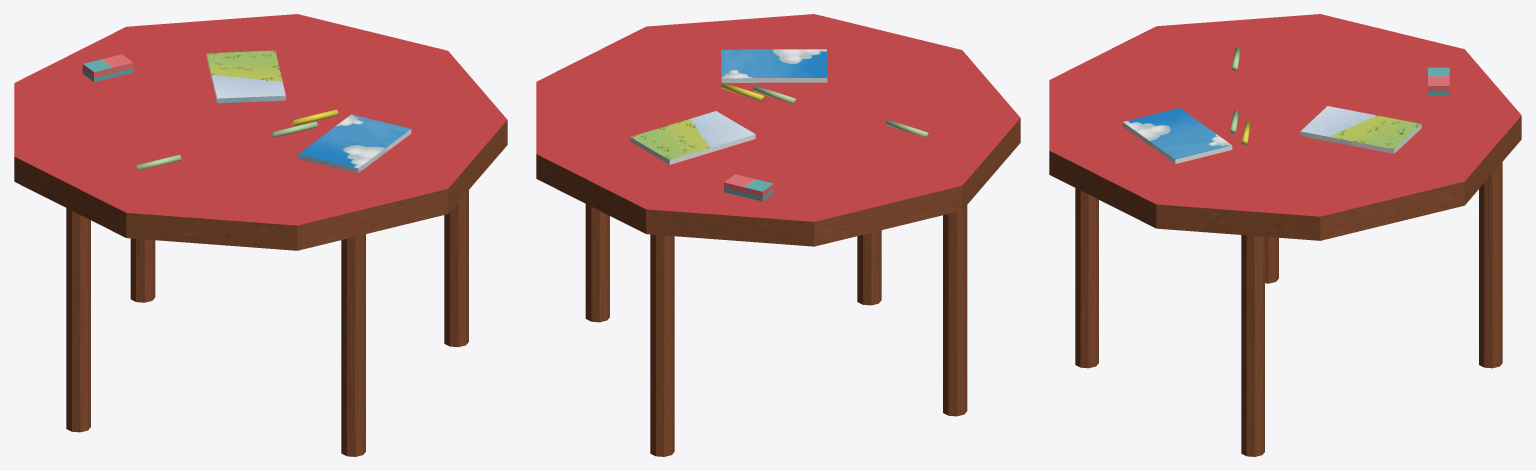
Rendered from Mesa.fbx.
3 renders of one model, left to right at view 1: azimuth 30°, elevation 25°; view 2: azimuth 150°, elevation 25°; view 3: azimuth 270°, elevation 25°, orthographic. The views are drawn at different scales.
Visible parts, largest first — view 1: Mesa, Borracha; view 2: Mesa, Borracha; view 3: Mesa, Borracha.
Boxes of the visible parts, <box> form: Mesa: <box>14,14,507,456</box>; Borracha: <box>82,54,133,81</box>; Mesa: <box>536,14,1020,456</box>; Borracha: <box>724,174,773,201</box>; Mesa: <box>1049,14,1521,456</box>; Borracha: <box>1428,67,1449,95</box>.
Bounding box in the file's own units: 261 × 155 × 257.
